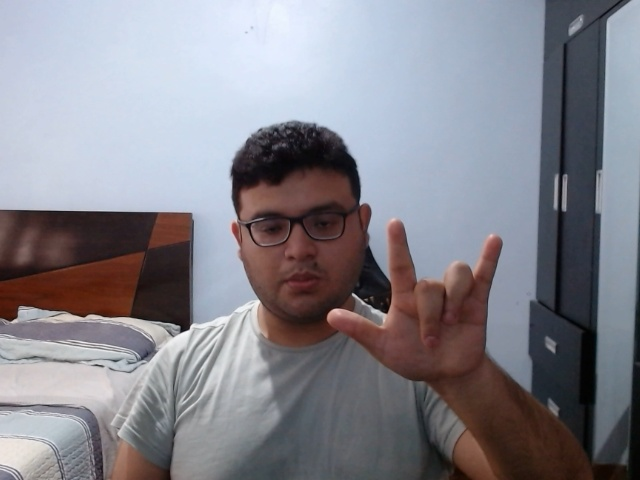I love you: (326, 216, 505, 396)
